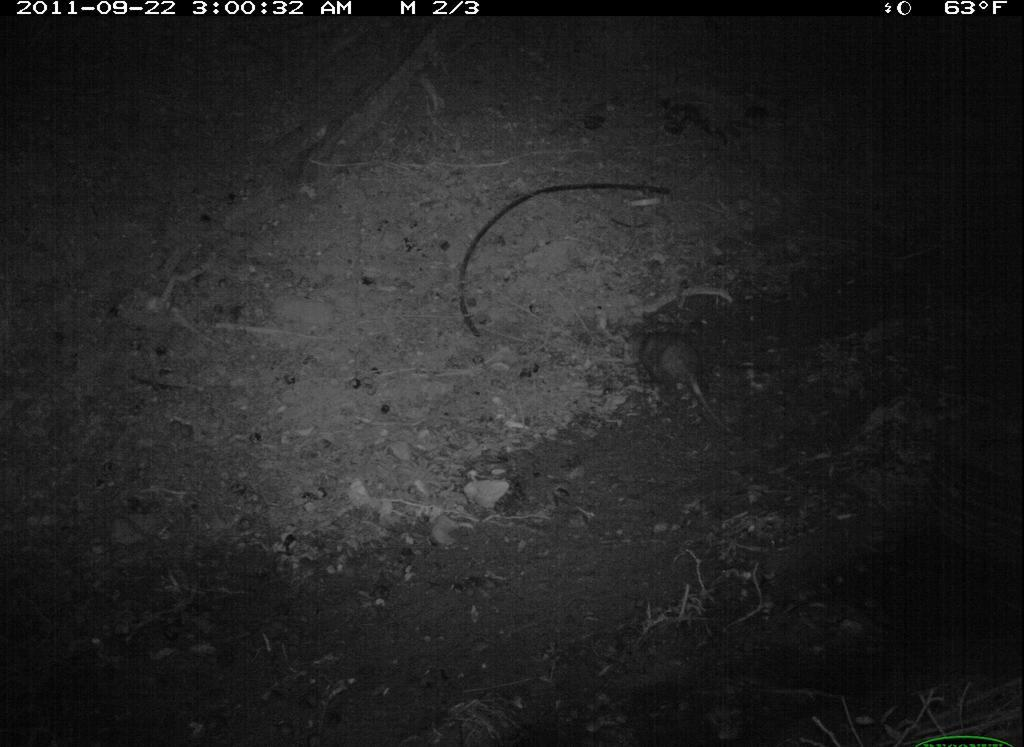opossum: (602, 295, 757, 452)
